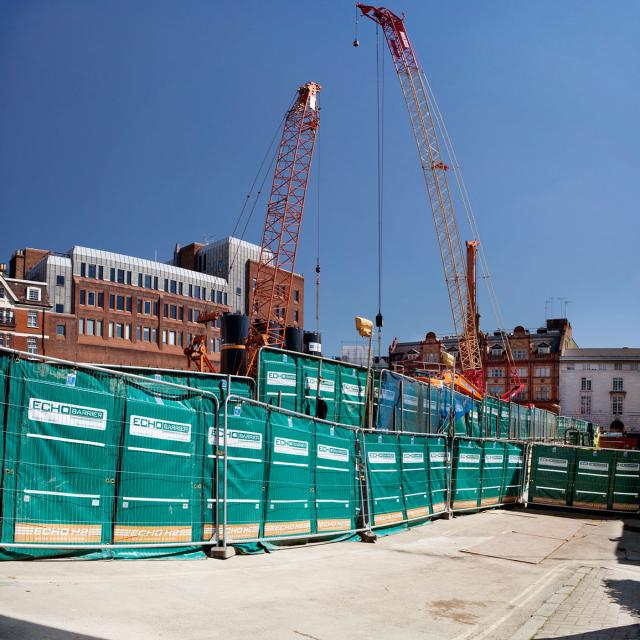cone: (1, 347, 630, 561)
